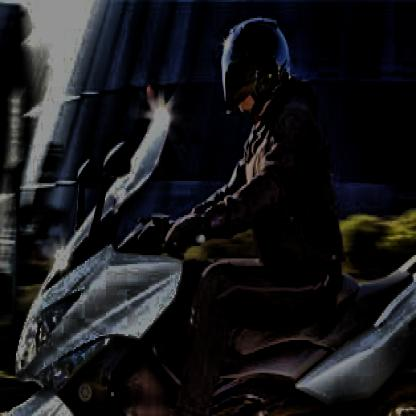wear: (226, 20, 284, 122)
